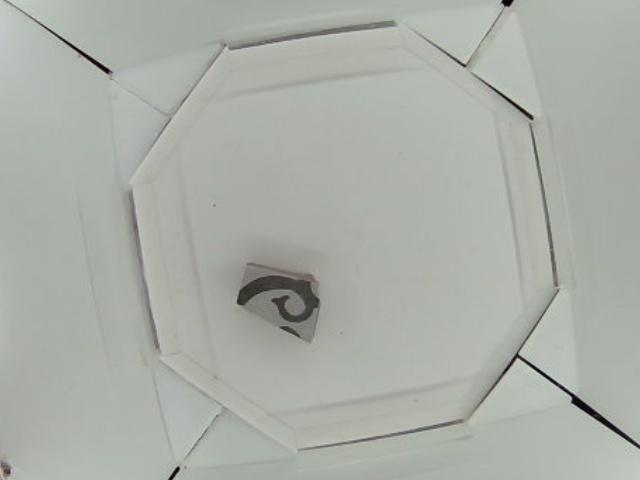China: (236, 262, 323, 342)
